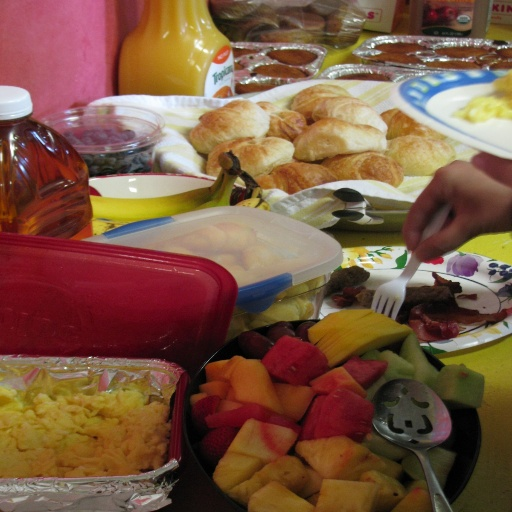hand: (395, 154, 509, 266)
